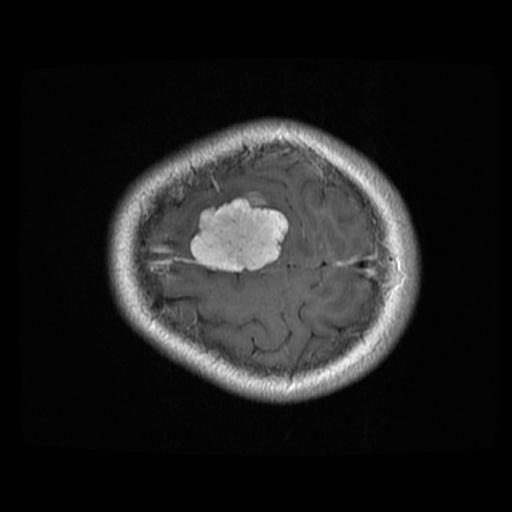meningioma: (190, 196, 289, 273)
